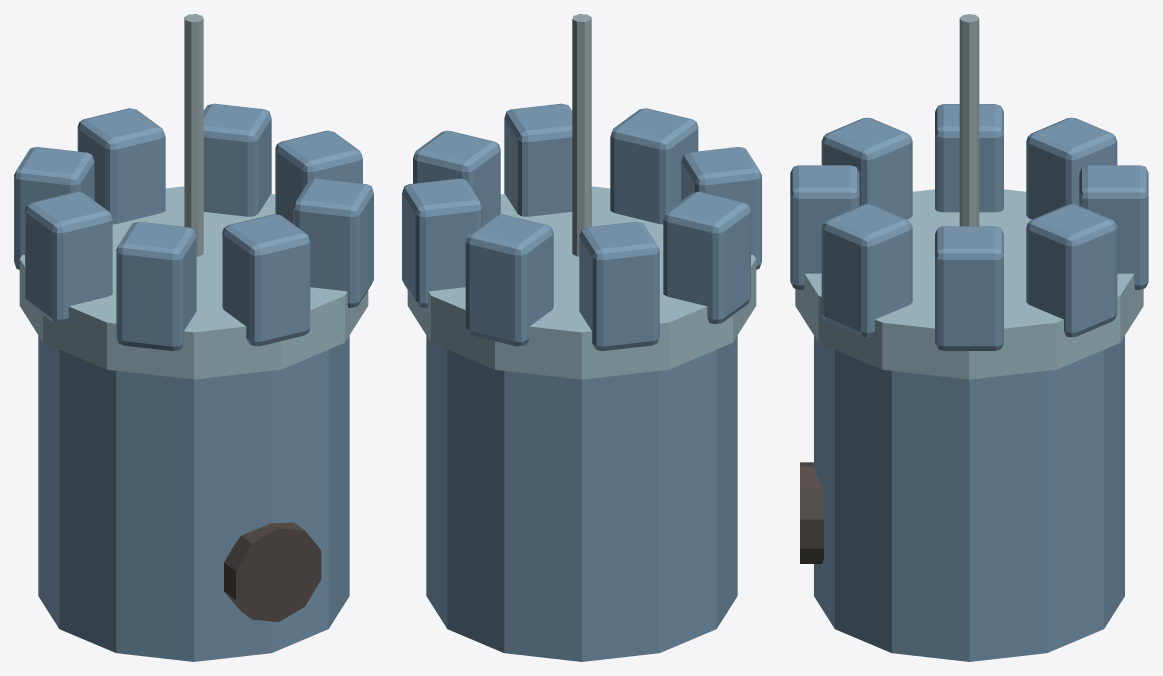
Rendered from building_southern_watchtower.glb.
The picture shows the model from 3 angles, left to right: view 1: azimuth 30°, elevation 25°; view 2: azimuth 150°, elevation 25°; view 3: azimuth 270°, elevation 25°; orthographic projection.
Parts seen in each view (by area): view 1: Southern_Watchtower_Body.001, Southern_Watchtower_TopRing.001, Southern_Watchtower_Crenel_06.001, Southern_Watchtower_Crenel_04.001, Southern_Watchtower_Crenel_05.001, Southern_Watchtower_Crenel_07.001, Southern_Watchtower_Crenel_02.001, Southern_Watchtower_Door.001, Southern_Watchtower_Crenel_01.001, Southern_Watchtower_Crenel_00.001, Southern_Watchtower_BannerPole.001, Southern_Watchtower_Crenel_03.001; view 2: Southern_Watchtower_Body.001, Southern_Watchtower_TopRing.001, Southern_Watchtower_Crenel_02.001, Southern_Watchtower_Crenel_04.001, Southern_Watchtower_Crenel_03.001, Southern_Watchtower_Crenel_01.001, Southern_Watchtower_Crenel_06.001, Southern_Watchtower_Crenel_07.001, Southern_Watchtower_Crenel_00.001, Southern_Watchtower_BannerPole.001, Southern_Watchtower_Crenel_05.001; view 3: Southern_Watchtower_Body.001, Southern_Watchtower_TopRing.001, Southern_Watchtower_Crenel_01.001, Southern_Watchtower_Crenel_07.001, Southern_Watchtower_Crenel_00.001, Southern_Watchtower_Crenel_03.001, Southern_Watchtower_Crenel_05.001, Southern_Watchtower_Crenel_02.001, Southern_Watchtower_Crenel_06.001, Southern_Watchtower_Crenel_04.001, Southern_Watchtower_BannerPole.001, Southern_Watchtower_Door.001.
Boxes of the visible parts, x1,y1,x2,y2 form: Southern_Watchtower_Body.001: (38,335,349,661); Southern_Watchtower_TopRing.001: (19,186,368,379); Southern_Watchtower_Crenel_06.001: (222,214,310,346); Southern_Watchtower_Crenel_04.001: (25,192,112,323); Southern_Watchtower_Crenel_05.001: (116,221,196,351); Southern_Watchtower_Crenel_07.001: (293,178,373,307); Southern_Watchtower_Crenel_02.001: (77,108,165,224); Southern_Watchtower_Door.001: (224,522,321,621); Southern_Watchtower_Crenel_01.001: (203,103,271,216); Southern_Watchtower_Crenel_00.001: (275,130,362,223); Southern_Watchtower_BannerPole.001: (184,14,203,256); Southern_Watchtower_Crenel_03.001: (14,147,94,269); Southern_Watchtower_Body.001: (426,335,737,661); Southern_Watchtower_TopRing.001: (407,186,756,379); Southern_Watchtower_Crenel_02.001: (465,214,553,346); Southern_Watchtower_Crenel_04.001: (663,192,750,323); Southern_Watchtower_Crenel_03.001: (579,221,659,351); Southern_Watchtower_Crenel_01.001: (402,178,482,307); Southern_Watchtower_Crenel_06.001: (610,108,698,224); Southern_Watchtower_Crenel_07.001: (504,103,572,216); Southern_Watchtower_Crenel_00.001: (413,130,500,223); Southern_Watchtower_BannerPole.001: (572,14,591,256); Southern_Watchtower_Crenel_05.001: (681,147,761,269); Southern_Watchtower_Body.001: (814,336,1124,661); Southern_Watchtower_TopRing.001: (795,189,1143,379); Southern_Watchtower_Crenel_01.001: (1026,204,1117,337); Southern_Watchtower_Crenel_07.001: (821,204,912,337); Southern_Watchtower_Crenel_00.001: (935,226,1003,350); Southern_Watchtower_Crenel_03.001: (1026,117,1117,219); Southern_Watchtower_Crenel_05.001: (821,117,912,219); Southern_Watchtower_Crenel_02.001: (1079,165,1148,289); Southern_Watchtower_Crenel_06.001: (790,165,859,289); Southern_Watchtower_Crenel_04.001: (935,104,1003,212); Southern_Watchtower_BannerPole.001: (959,14,979,226); Southern_Watchtower_Door.001: (800,462,823,563).
Bounding box in the file's own units: 1.65 × 2.94 × 1.65.
